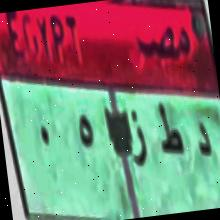0: (30, 116, 58, 158)
5: (64, 102, 102, 165)
Taa: (152, 94, 186, 172)
daal: (188, 114, 218, 172)
zay: (123, 100, 154, 181)
